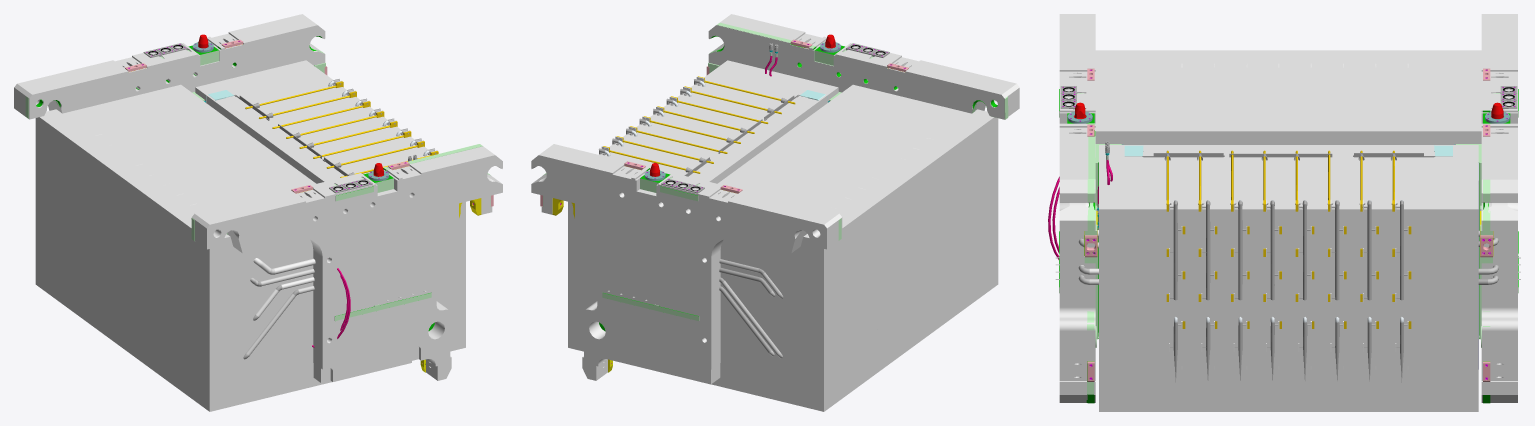
The picture shows the model from 3 angles, left to right: view 1: azimuth 30°, elevation 25°; view 2: azimuth 150°, elevation 25°; view 3: azimuth 270°, elevation 25°; orthographic projection. The views are drawn at different scales.
Parts seen in each view (by area): view 1: LOOSE_SIDE, FIXED_SIDE, Model; view 2: LOOSE_SIDE, FIXED_SIDE, Model; view 3: FIXED_SIDE, LOOSE_SIDE, Model.
Boxes of the visible parts, left/top/right/bottom form: LOOSE_SIDE: left=35, top=84, right=331, bottom=411; FIXED_SIDE: left=14, top=14, right=502, bottom=382; Model: left=25, top=34, right=493, bottom=372; LOOSE_SIDE: left=711, top=84, right=998, bottom=411; FIXED_SIDE: left=531, top=14, right=1019, bottom=384; Model: left=540, top=22, right=1008, bottom=372; FIXED_SIDE: left=1059, top=14, right=1517, bottom=411; LOOSE_SIDE: left=1095, top=50, right=1481, bottom=144; Model: left=1048, top=63, right=1520, bottom=403.
Bounding box in the file's own units: 3.95 × 2.82 × 4.57.
